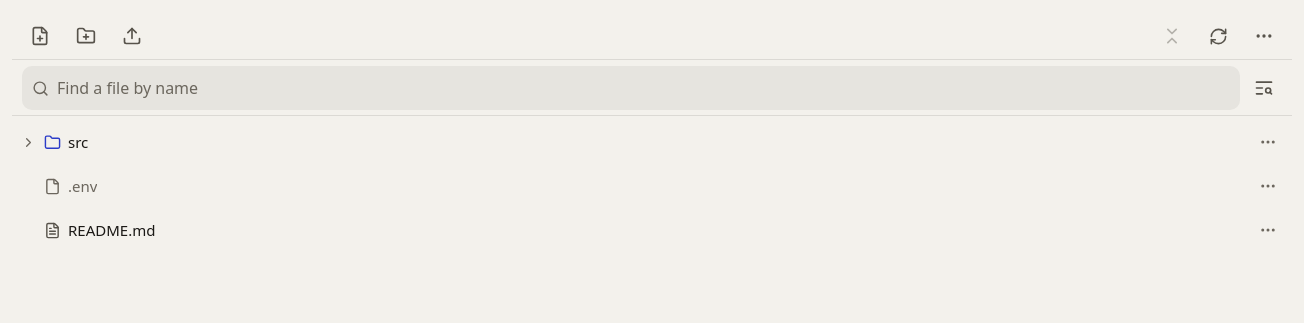
Test case: the files panel › keeps a refused name in its field and says which rule it broke — without asking the server
Expected: the element showing "src .env README.md" is shown, [12,116,1292,276]
Click the button named "New file" at (40,36), box [18,14,62,58]
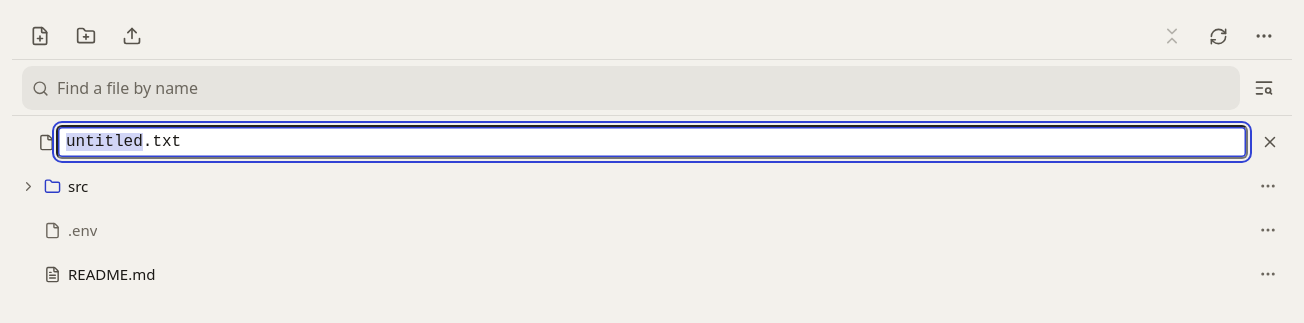
Replace the text in the field named "Name of the new file" with "a/b.txt" at (652,142), box [56,125,1248,159]
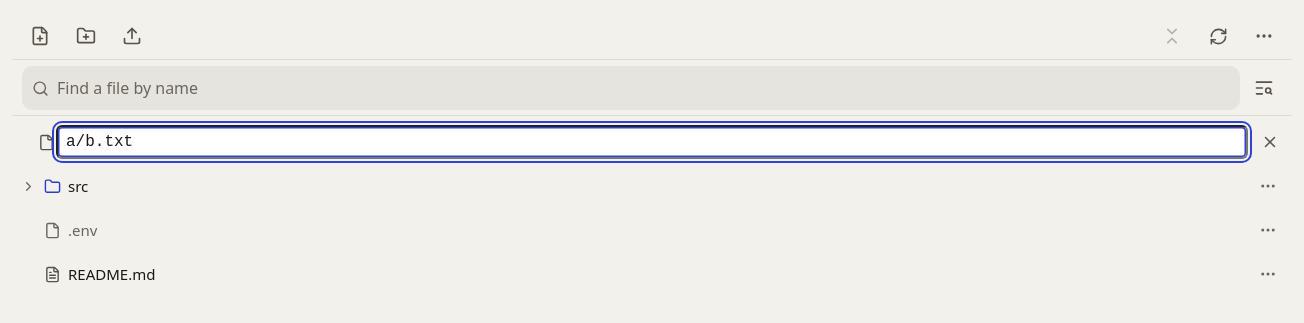
Press Enter in the field named "Name of the new file", box [56,125,1248,159]
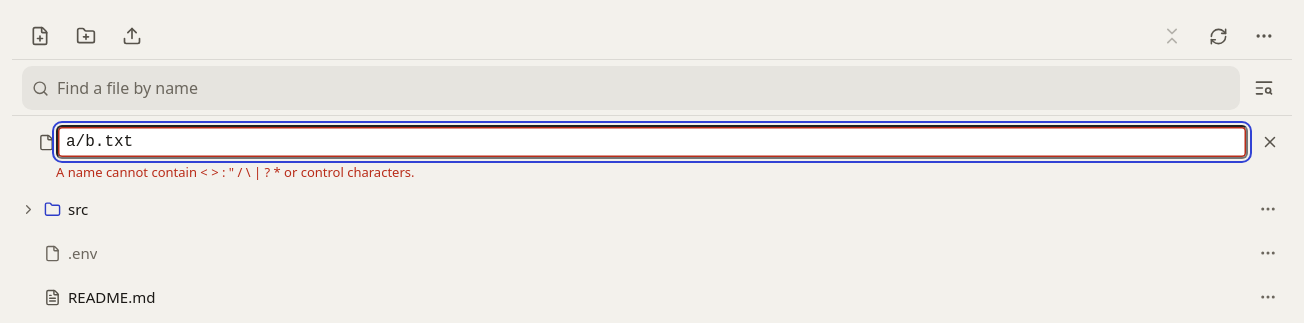
Expected: the message shows "A name cannot contain", [56,163,414,181]
